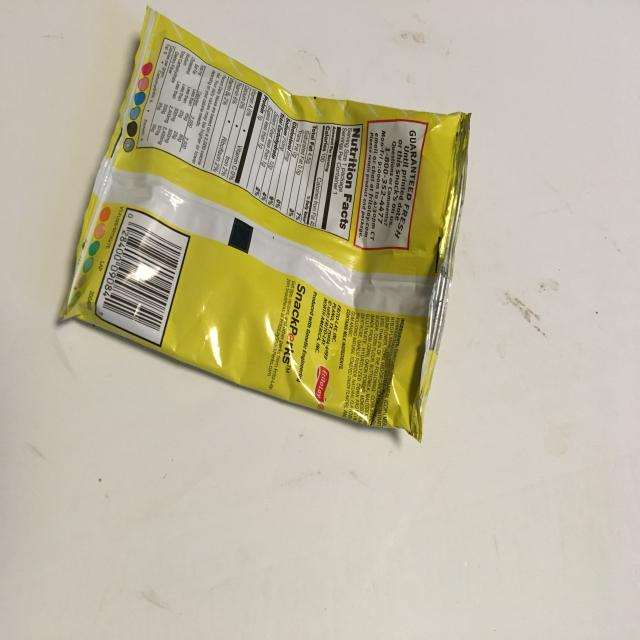Trash: (58, 4, 471, 443)
